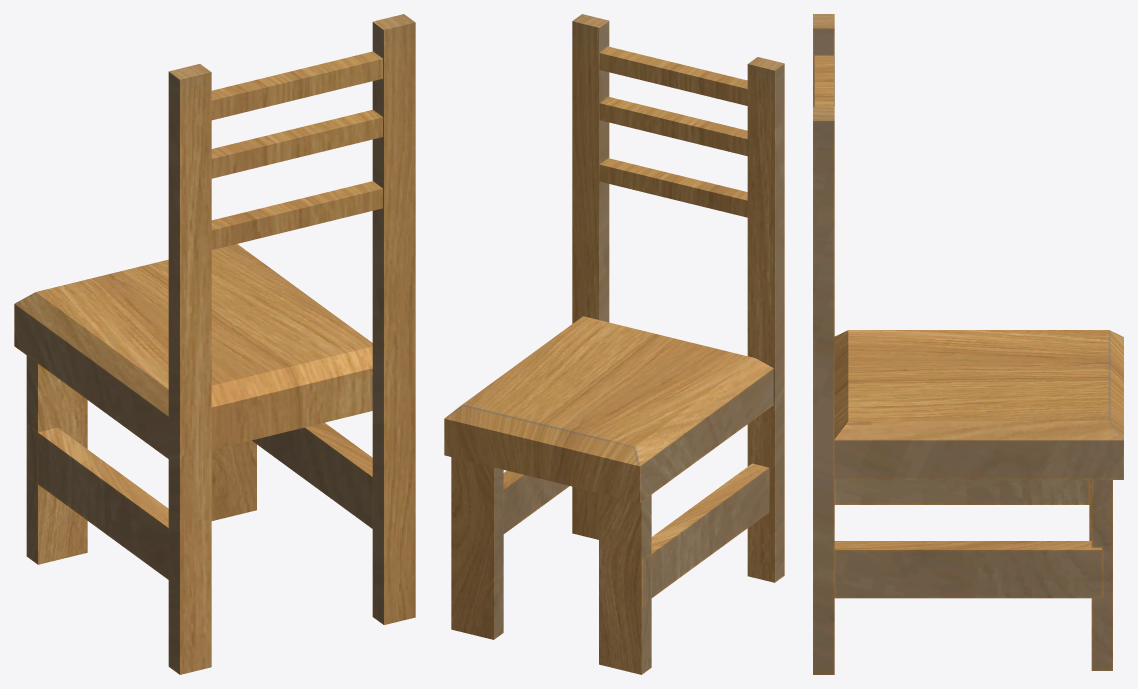
Rendered from Chair.fbx.
3 views of the same model, side by side, from view 1: azimuth 30°, elevation 25°; view 2: azimuth 150°, elevation 25°; view 3: azimuth 270°, elevation 25° (orthographic). The views are drawn at different scales.
Visible parts, largest first — view 1: node_id5; view 2: node_id5; view 3: node_id5.
Part boxes in pixels (x1,y1,x2,y2): node_id5: (14, 14, 415, 674); node_id5: (444, 14, 784, 674); node_id5: (813, 14, 1123, 674).
Bounding box in the file's own units: 0.212 × 0.512 × 0.2603.
Materials: 1 (1 with a texture image).
